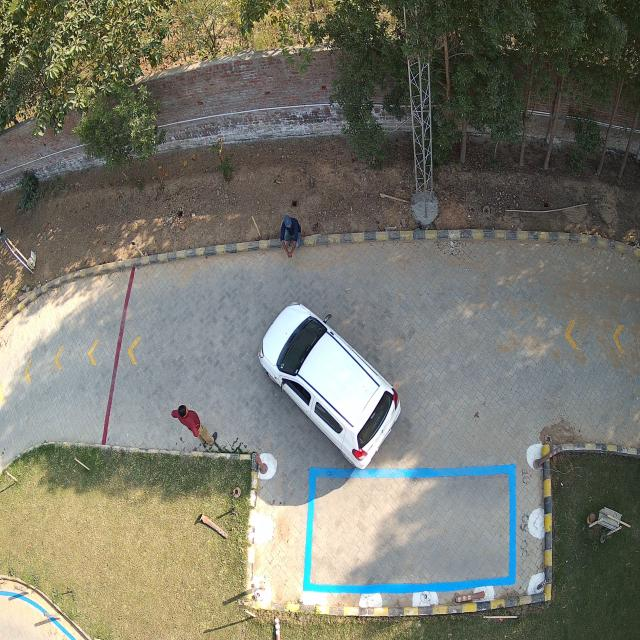car: (259, 303, 400, 468)
